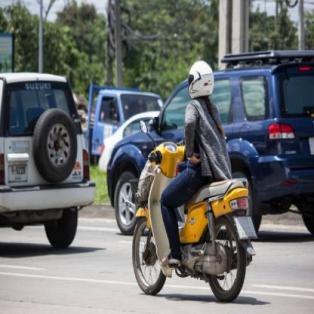Motocicleta: (131, 124, 255, 301)
